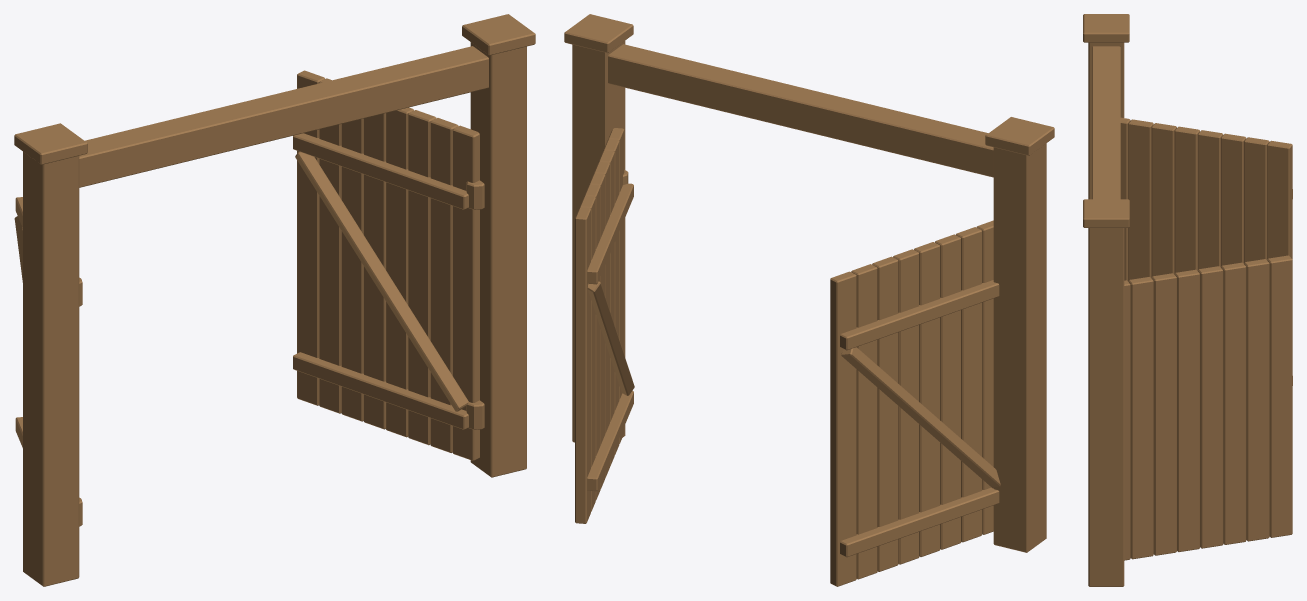
The model's file is gate.glb.
3 renders of one model, left to right at view 1: azimuth 30°, elevation 25°; view 2: azimuth 150°, elevation 25°; view 3: azimuth 270°, elevation 25°, orthographic. The views are drawn at different scales.
Visible parts, largest first — view 1: gate; view 2: gate; view 3: gate.
Part boxes in pixels (x1,y1,x2,y2): gate: [14, 14, 535, 586]; gate: [564, 14, 1054, 586]; gate: [1083, 14, 1292, 586].
Size of the model in its own units: 5.42 by 4.57 by 2.34.
